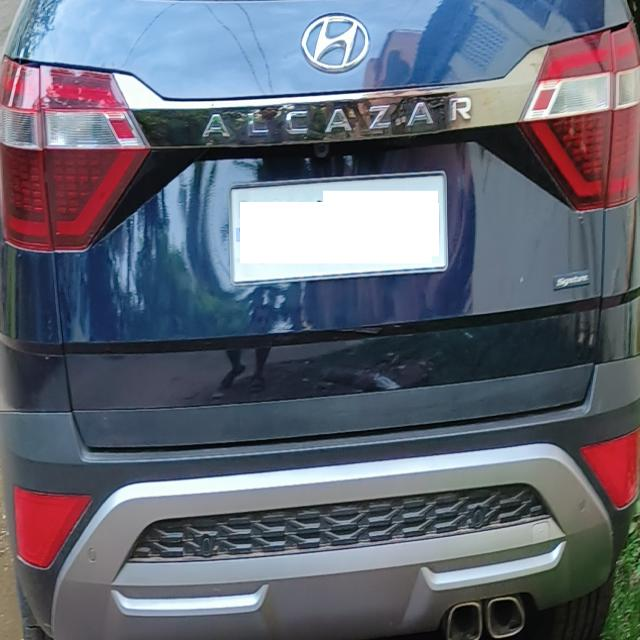scratch: (516, 268, 525, 288)
